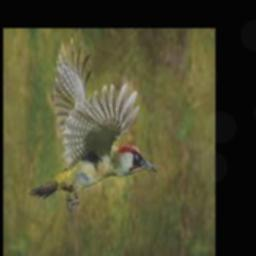Woodpecker: (27, 37, 157, 210)
